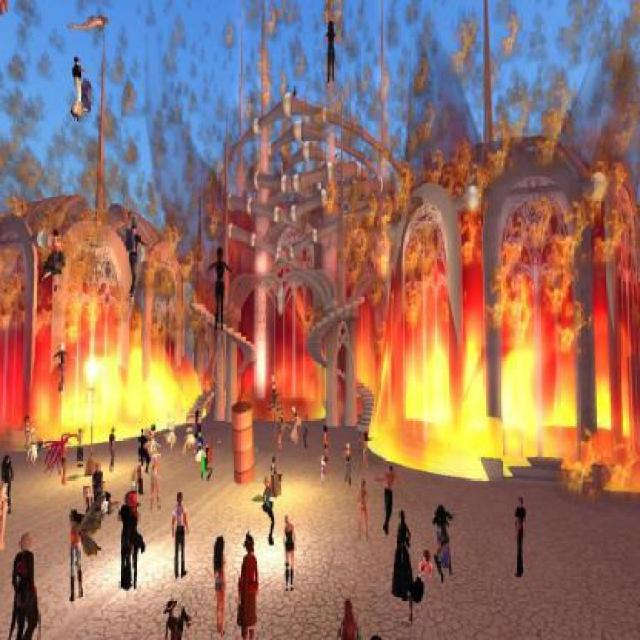Person: (6, 534, 42, 638), (69, 509, 97, 625), (118, 488, 147, 588), (126, 211, 156, 306), (407, 548, 438, 626), (34, 422, 66, 490), (235, 524, 253, 639), (170, 489, 193, 577), (393, 512, 415, 603), (207, 246, 230, 328), (434, 507, 458, 582), (41, 224, 68, 288), (376, 469, 401, 534), (162, 592, 196, 639), (213, 532, 229, 628), (70, 56, 92, 124), (513, 496, 527, 582), (284, 510, 298, 592), (0, 454, 11, 554), (323, 17, 339, 85), (258, 470, 273, 542), (58, 339, 77, 390), (82, 478, 104, 522), (356, 484, 372, 544), (270, 454, 288, 503), (335, 596, 357, 636), (183, 424, 205, 461), (148, 447, 160, 507), (130, 464, 152, 491), (95, 464, 107, 511), (320, 422, 331, 473), (73, 426, 85, 468), (360, 436, 372, 476), (274, 412, 286, 451), (166, 417, 180, 449), (289, 408, 302, 442), (28, 432, 42, 462), (197, 448, 209, 479), (344, 436, 351, 486), (191, 402, 200, 436), (109, 428, 116, 468), (140, 428, 148, 463), (24, 418, 31, 454), (320, 456, 325, 482), (306, 412, 309, 451), (292, 82, 296, 93)
